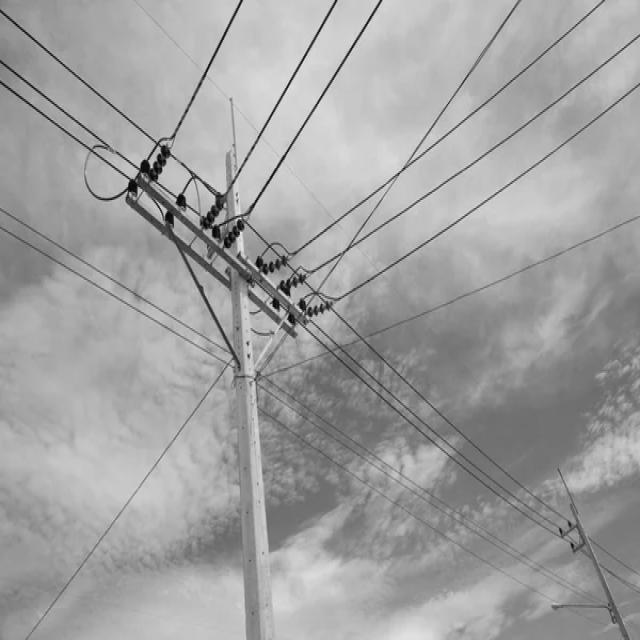Pole: (218, 145, 275, 640)
